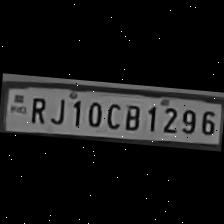0: (84, 96, 104, 127)
1: (66, 96, 86, 127), (142, 103, 161, 132)
2: (158, 102, 179, 134)
6: (197, 106, 218, 135)
9: (177, 105, 198, 134)
B: (120, 100, 143, 132)
C: (104, 98, 122, 128)
J: (47, 93, 69, 126)
R: (24, 92, 50, 124)
